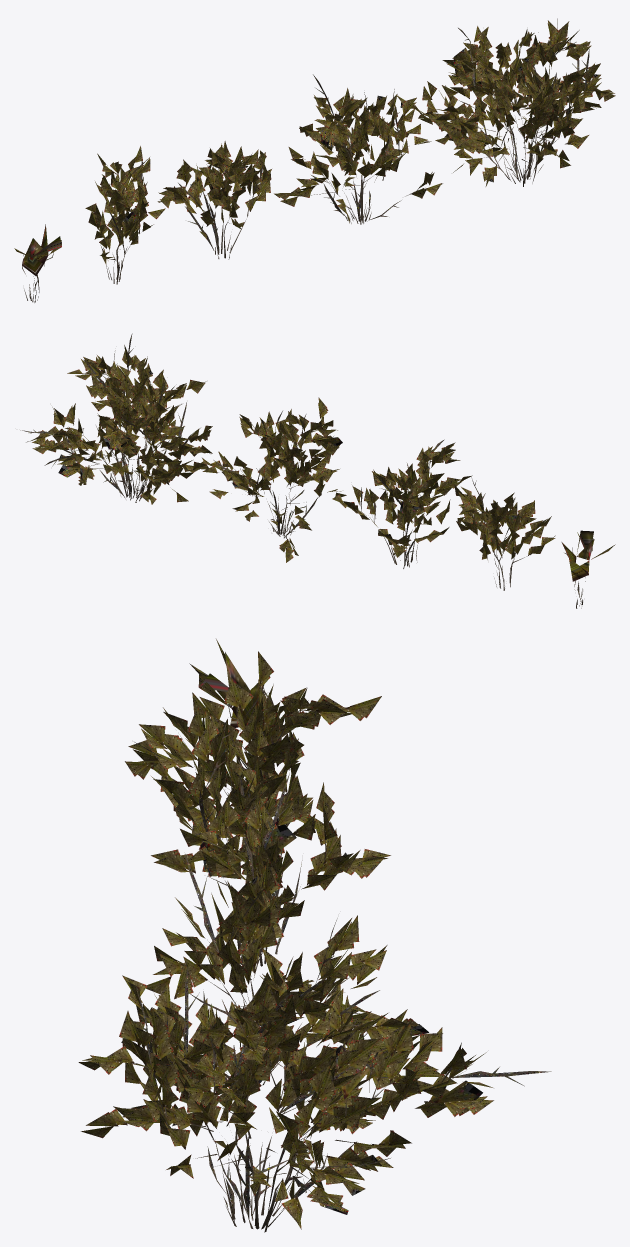
File: wild_rooibos_bush_lod1.glb
3 renders of one model, top to bottom at view 1: azimuth 30°, elevation 25°; view 2: azimuth 150°, elevation 25°; view 3: azimuth 270°, elevation 25°, orthographic. The views are drawn at different scales.
Visible parts, largest first — view 1: wild_rooibos_bush_a, wild_rooibos_bush_b, wild_rooibos_bush_c, wild_rooibos_bush_d, wild_rooibos_bush_e; view 2: wild_rooibos_bush_a, wild_rooibos_bush_b, wild_rooibos_bush_c, wild_rooibos_bush_d, wild_rooibos_bush_e; view 3: wild_rooibos_bush_a, wild_rooibos_bush_b, wild_rooibos_bush_c, wild_rooibos_bush_d, wild_rooibos_bush_e.
Part boxes in pixels (box(x1,y1,x2,y2)): wild_rooibos_bush_a: box(397, 18, 615, 186); wild_rooibos_bush_b: box(274, 74, 442, 224); wild_rooibos_bush_c: box(157, 141, 271, 259); wild_rooibos_bush_d: box(85, 146, 165, 284); wild_rooibos_bush_e: box(14, 224, 61, 302); wild_rooibos_bush_a: box(20, 333, 223, 504); wild_rooibos_bush_b: box(202, 397, 346, 562); wild_rooibos_bush_c: box(332, 439, 472, 568); wild_rooibos_bush_d: box(454, 477, 555, 590); wild_rooibos_bush_e: box(561, 530, 615, 608); wild_rooibos_bush_a: box(78, 948, 551, 1232); wild_rooibos_bush_b: box(136, 773, 388, 1085); wild_rooibos_bush_c: box(125, 705, 390, 966); wild_rooibos_bush_d: box(163, 651, 381, 835); wild_rooibos_bush_e: box(189, 639, 266, 780).
Bounding box in the file's own units: 2.25 × 0.533 × 0.8279.
2 materials, 2 textured.
